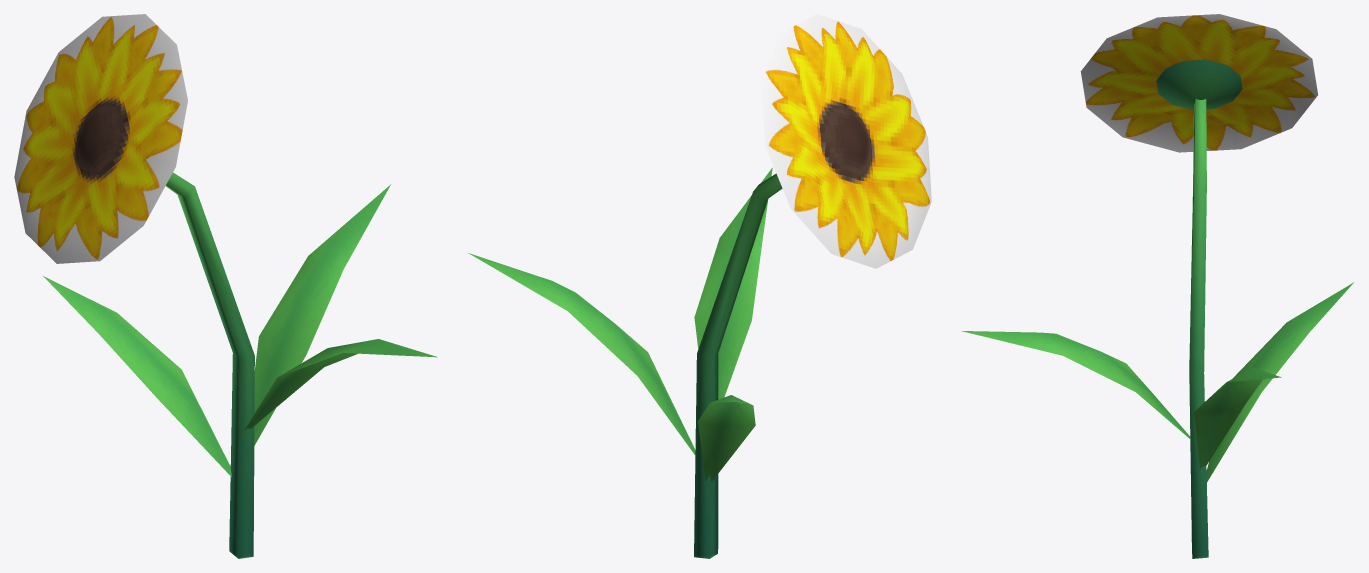
File: Flower_Sunflower_1.glb
3 renders of one model, left to right at view 1: azimuth 30°, elevation 25°; view 2: azimuth 150°, elevation 25°; view 3: azimuth 270°, elevation 25°, orthographic. The views are drawn at different scales.
Parts seen in each view (by area): view 1: Cylinder.084_Cylinder.153, Cube.081_Cube.247, object6.061_object6.008, object6.060_object6.007, object6.059_object6.006; view 2: Cylinder.084_Cylinder.153, Cube.081_Cube.247, object6.059_object6.006, object6.061_object6.008, object6.060_object6.007; view 3: Cylinder.084_Cylinder.153, Cube.081_Cube.247, object6.059_object6.006, object6.060_object6.007, Cylinder.085_Cylinder.154, object6.061_object6.008.
Part boxes in pixels (x1,y1,x2,y2): Cylinder.084_Cylinder.153: (14,14,187,263); Cube.081_Cube.247: (165,172,254,558); object6.061_object6.008: (254,184,390,445); object6.060_object6.007: (43,276,231,476); object6.059_object6.006: (244,339,437,430); Cylinder.084_Cylinder.153: (761,14,931,268); Cube.081_Cube.247: (694,173,782,558); object6.059_object6.006: (694,167,772,399); object6.061_object6.008: (468,253,695,455); object6.060_object6.007: (698,395,755,481); Cylinder.084_Cylinder.153: (1080,14,1317,152); Cube.081_Cube.247: (1189,99,1208,558); object6.059_object6.006: (961,331,1190,439); object6.060_object6.007: (1206,282,1353,481); Cylinder.085_Cylinder.154: (1156,59,1242,109); object6.061_object6.008: (1194,367,1281,468).
Bounding box in the file's own units: 0.7757 × 1.05 × 0.7457.
3 materials, 3 textured.
